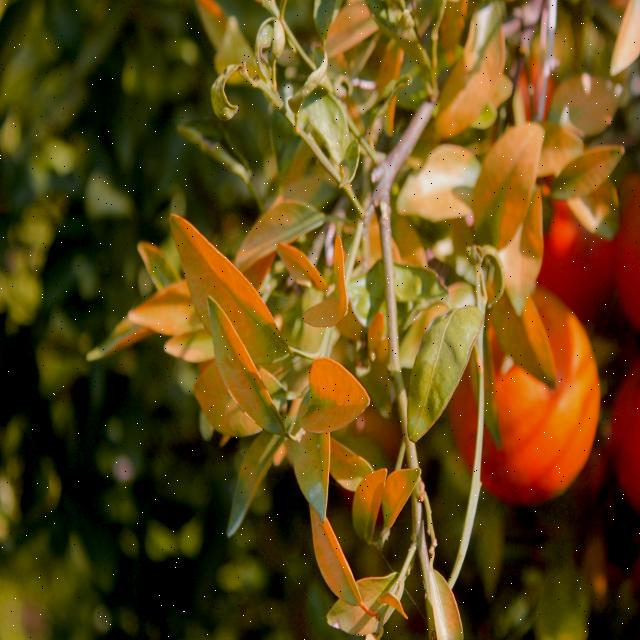greening: (185, 216, 276, 345), (209, 296, 277, 428), (313, 506, 358, 596), (304, 366, 367, 429), (380, 470, 420, 533)
